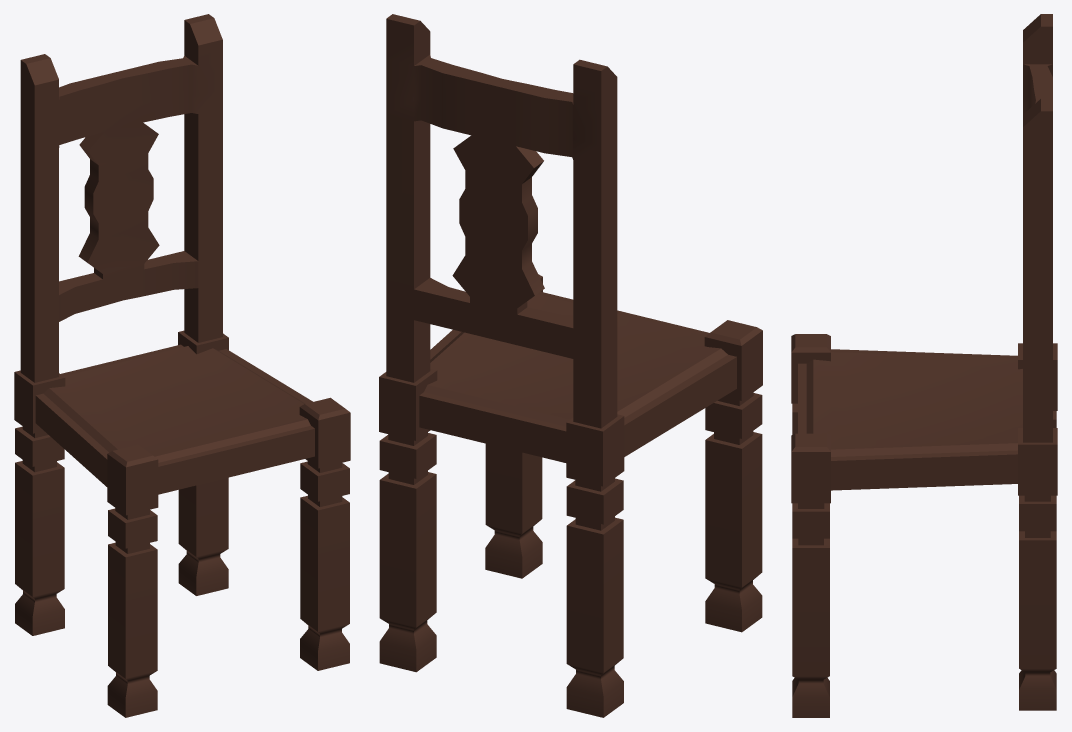
The model's file is fancy chair 1.fbx.
The picture shows the model from 3 angles, left to right: view 1: azimuth 30°, elevation 25°; view 2: azimuth 150°, elevation 25°; view 3: azimuth 270°, elevation 25°; orthographic projection. The views are drawn at different scales.
Visible parts, largest first — view 1: polySurface3; view 2: polySurface3; view 3: polySurface3.
Boxes of the visible parts, x1=… form: polySurface3: x1=14, y1=14, x2=350, y2=717; polySurface3: x1=379, y1=14, x2=762, y2=717; polySurface3: x1=791, y1=14, x2=1057, y2=717.
Bounding box in the file's own units: 21.95 × 52.64 × 21.27.
